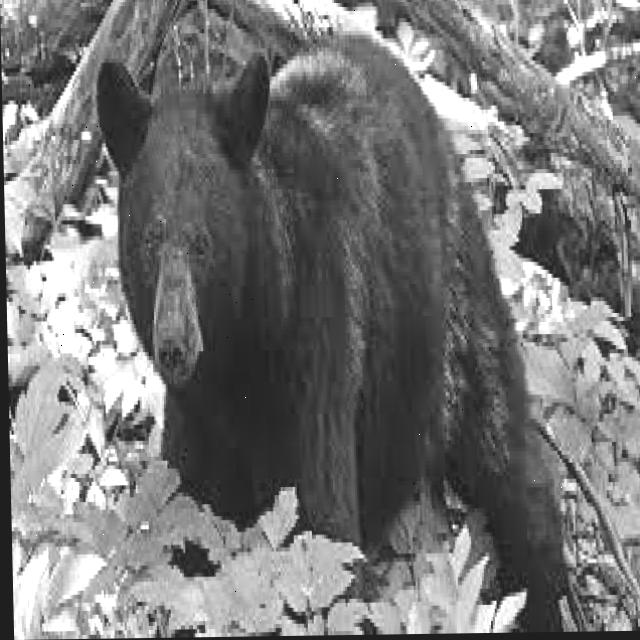Bear: (95, 24, 572, 639)
